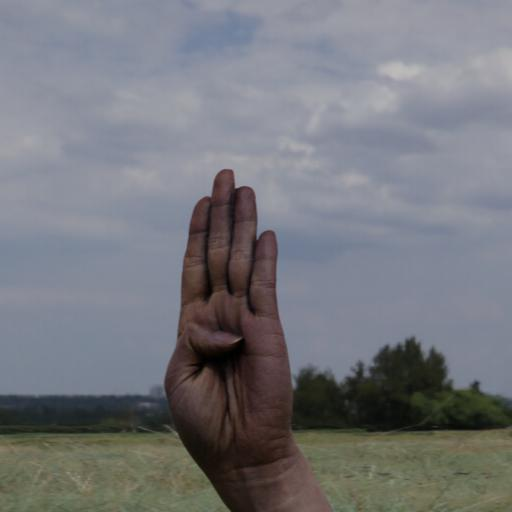B: (152, 151, 344, 512)
